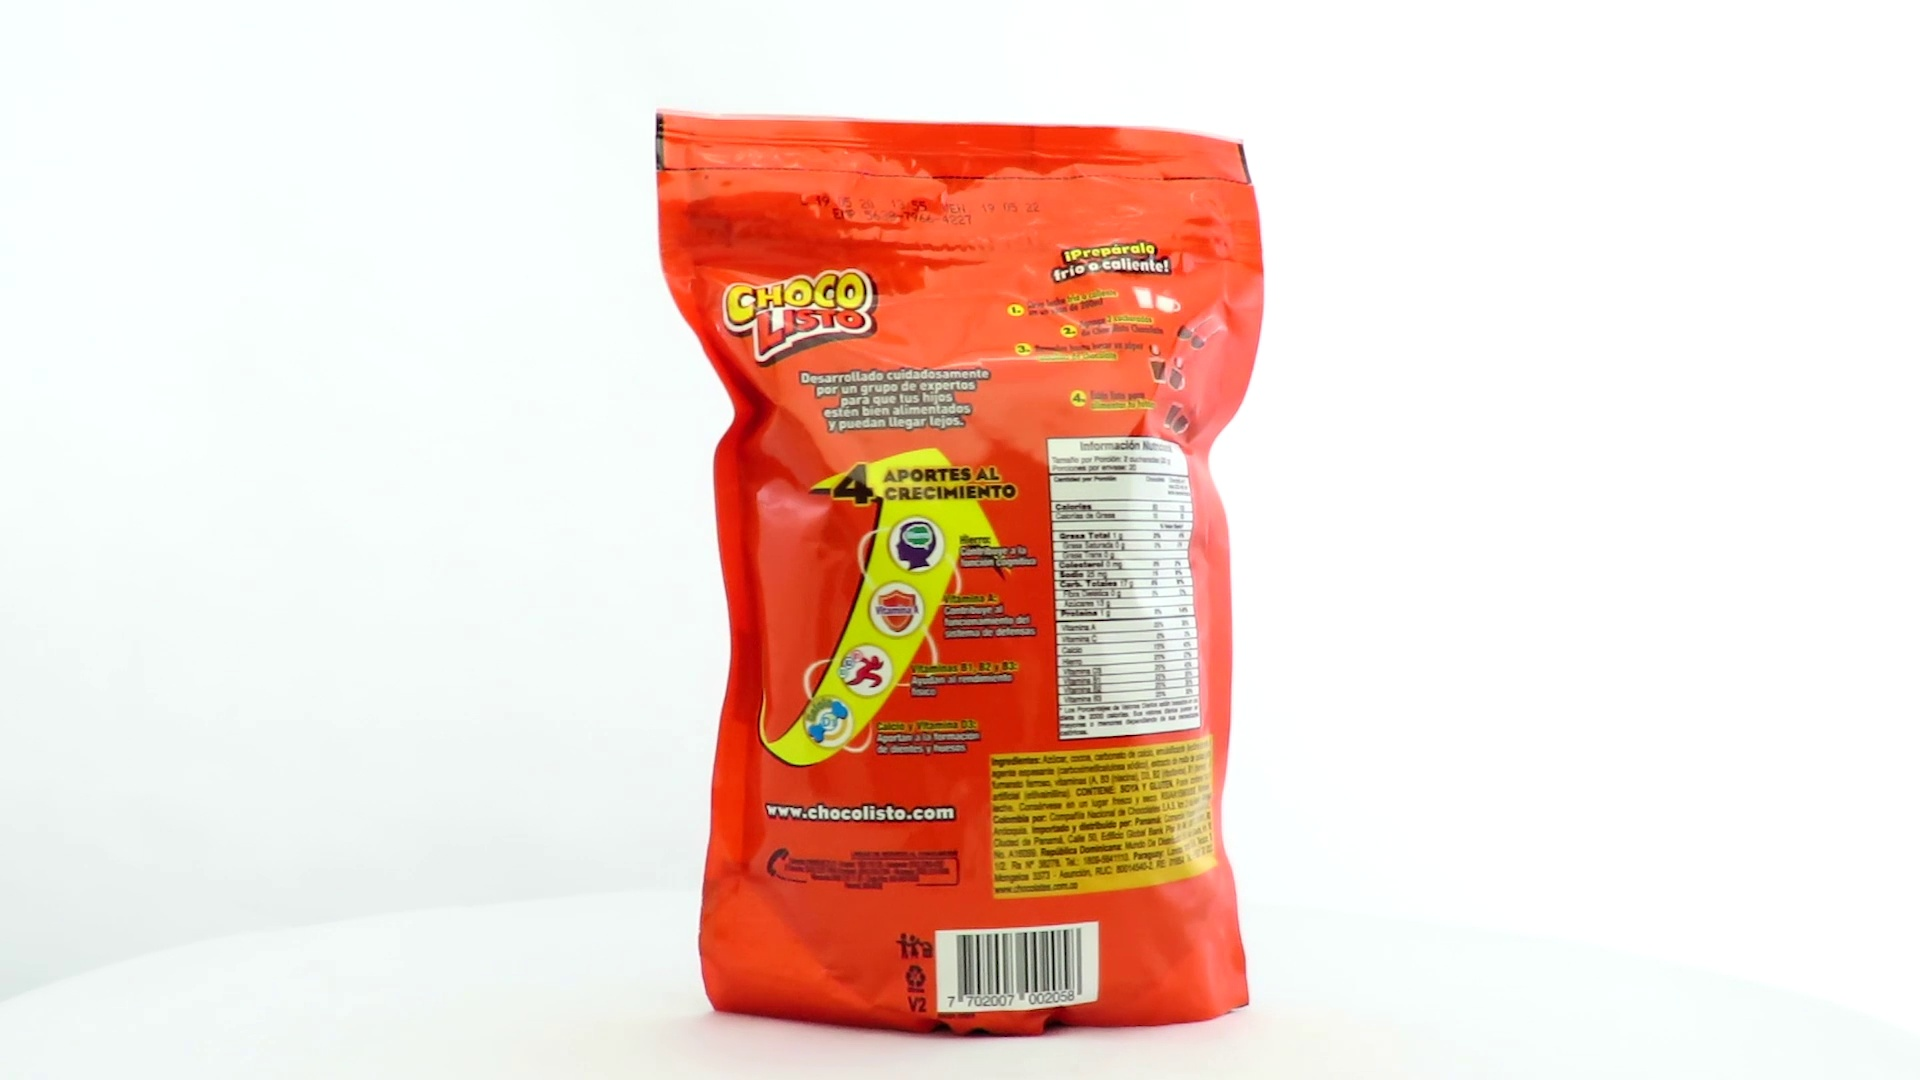COL0170103DYP40000: (650, 108, 1270, 1044)
